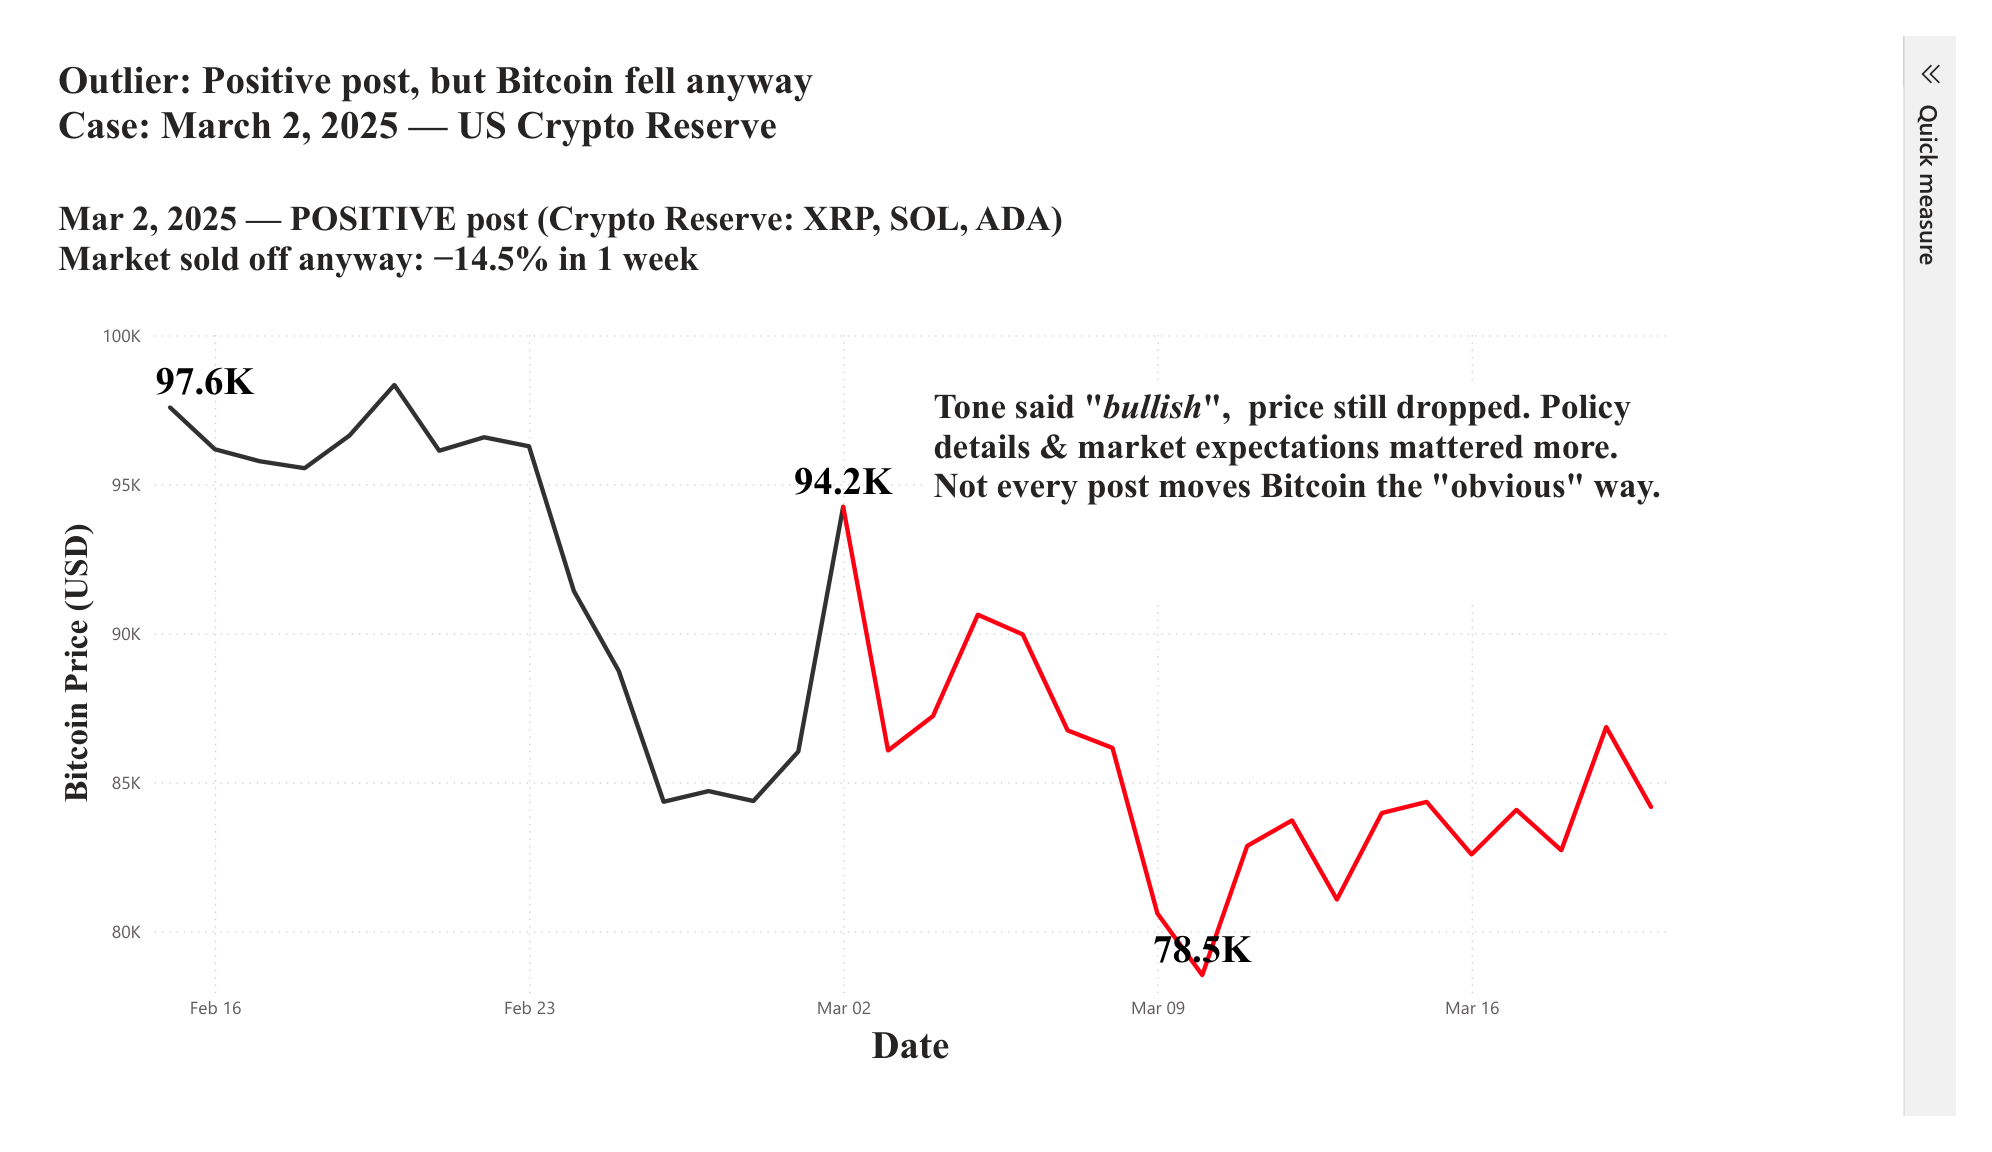

Layout of this report page (visuals, bound fields, positions):
{"tool":"powerbi","page":{"name":"BTC Outlier","canvas":[1280,720],"ordinal":3},"visuals":[{"type":"textbox","box":[10,0,600,112.9],"z":0},{"type":"lineChart","fields":{"Category":["Market_Prices.date_only"],"Y":["Market_Prices.Out_Line_Gray","Market_Prices.Out_Line_Red","Market_Prices.Out_Chart_Labels"]},"box":[10,181.4,1121.4,520],"z":1},{"type":"textbox","box":[10,97.1,870,84.3],"z":2},{"type":"textbox","box":[610,225.7,521.4,150],"z":3}]}

Visuals, with their boxes on the page's 1280x720 design canvas (x1, y1, x2, y2). These are canvas units, not pixel positions in the 1992x1152 screenshot, which may show the page scaled, cropped or inside an application window:
textbox: {"x1": 10, "y1": 0, "x2": 610, "y2": 113}
lineChart - Market_Prices.date_only x Market_Prices.Out_Line_Gray: {"x1": 10, "y1": 181, "x2": 1131, "y2": 701}
textbox: {"x1": 10, "y1": 97, "x2": 880, "y2": 181}
textbox: {"x1": 610, "y1": 226, "x2": 1131, "y2": 376}
